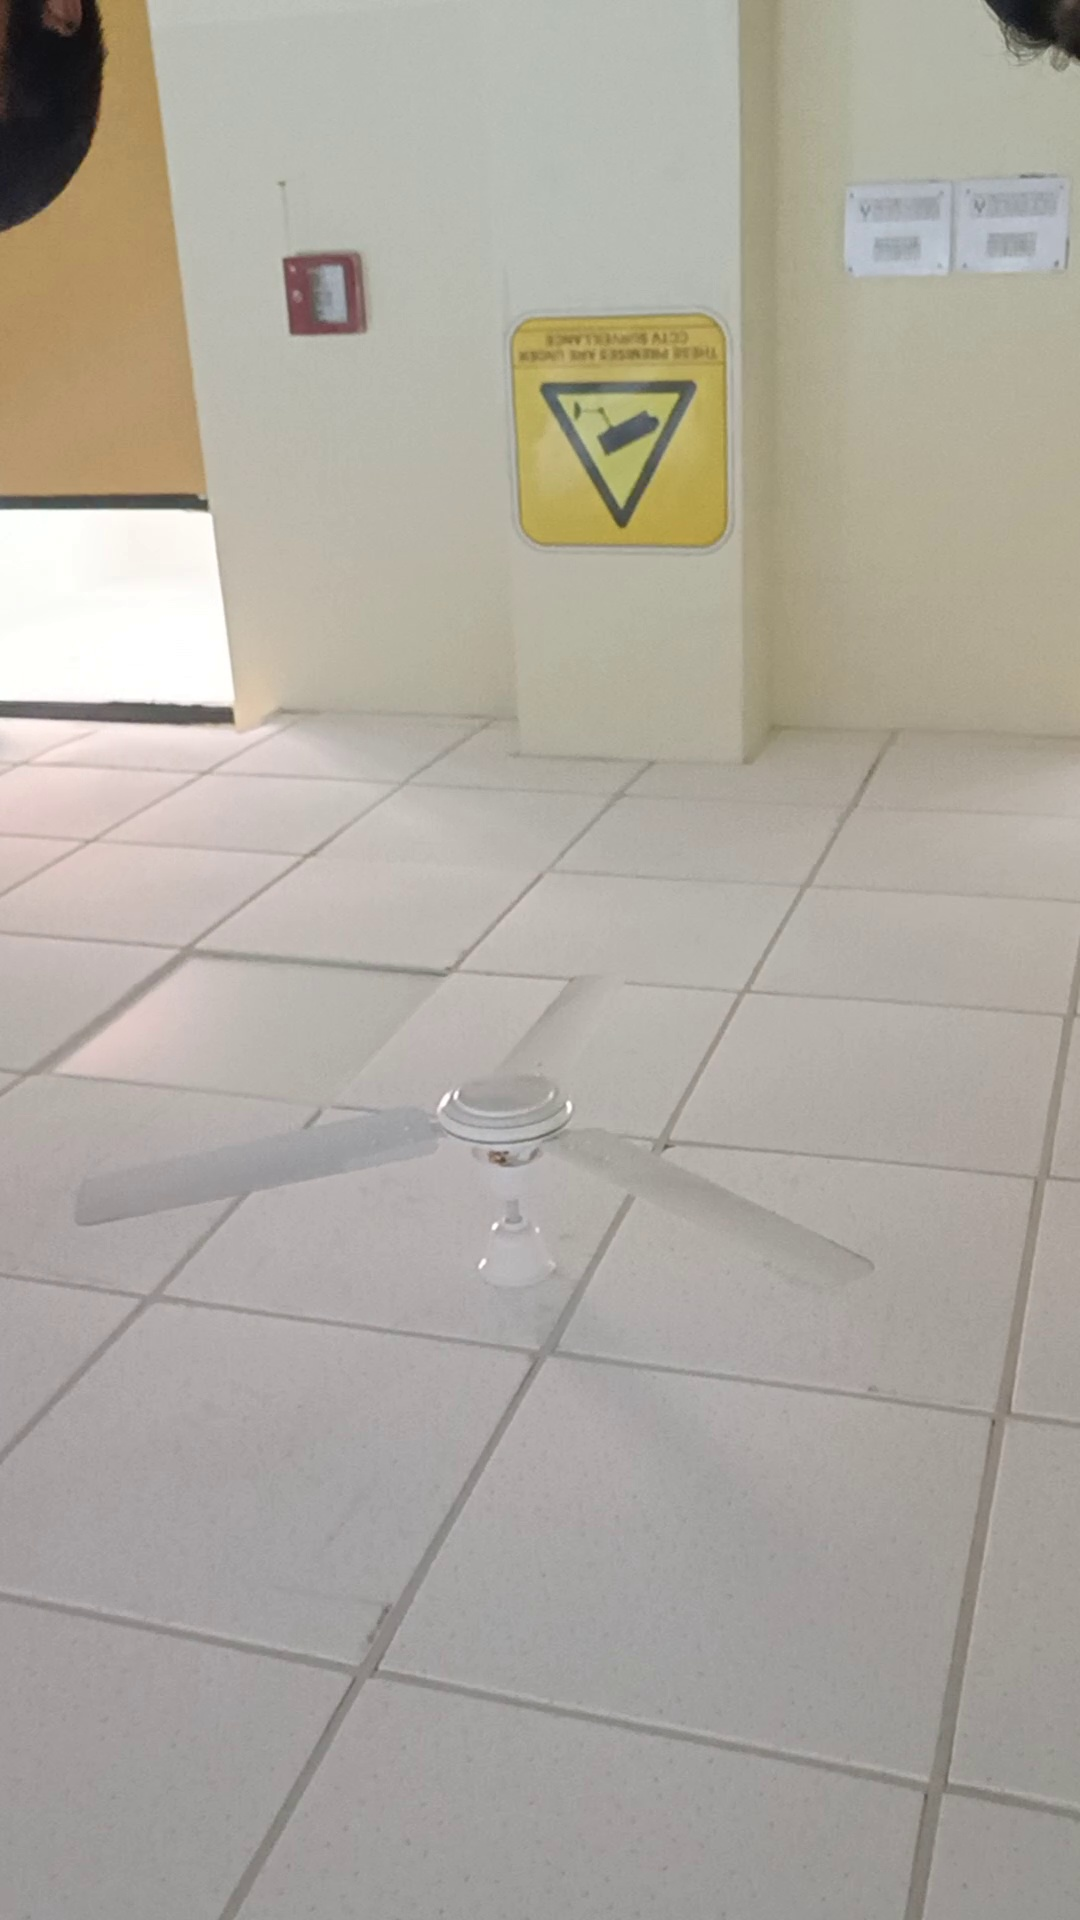fan: (66, 969, 943, 1311)
